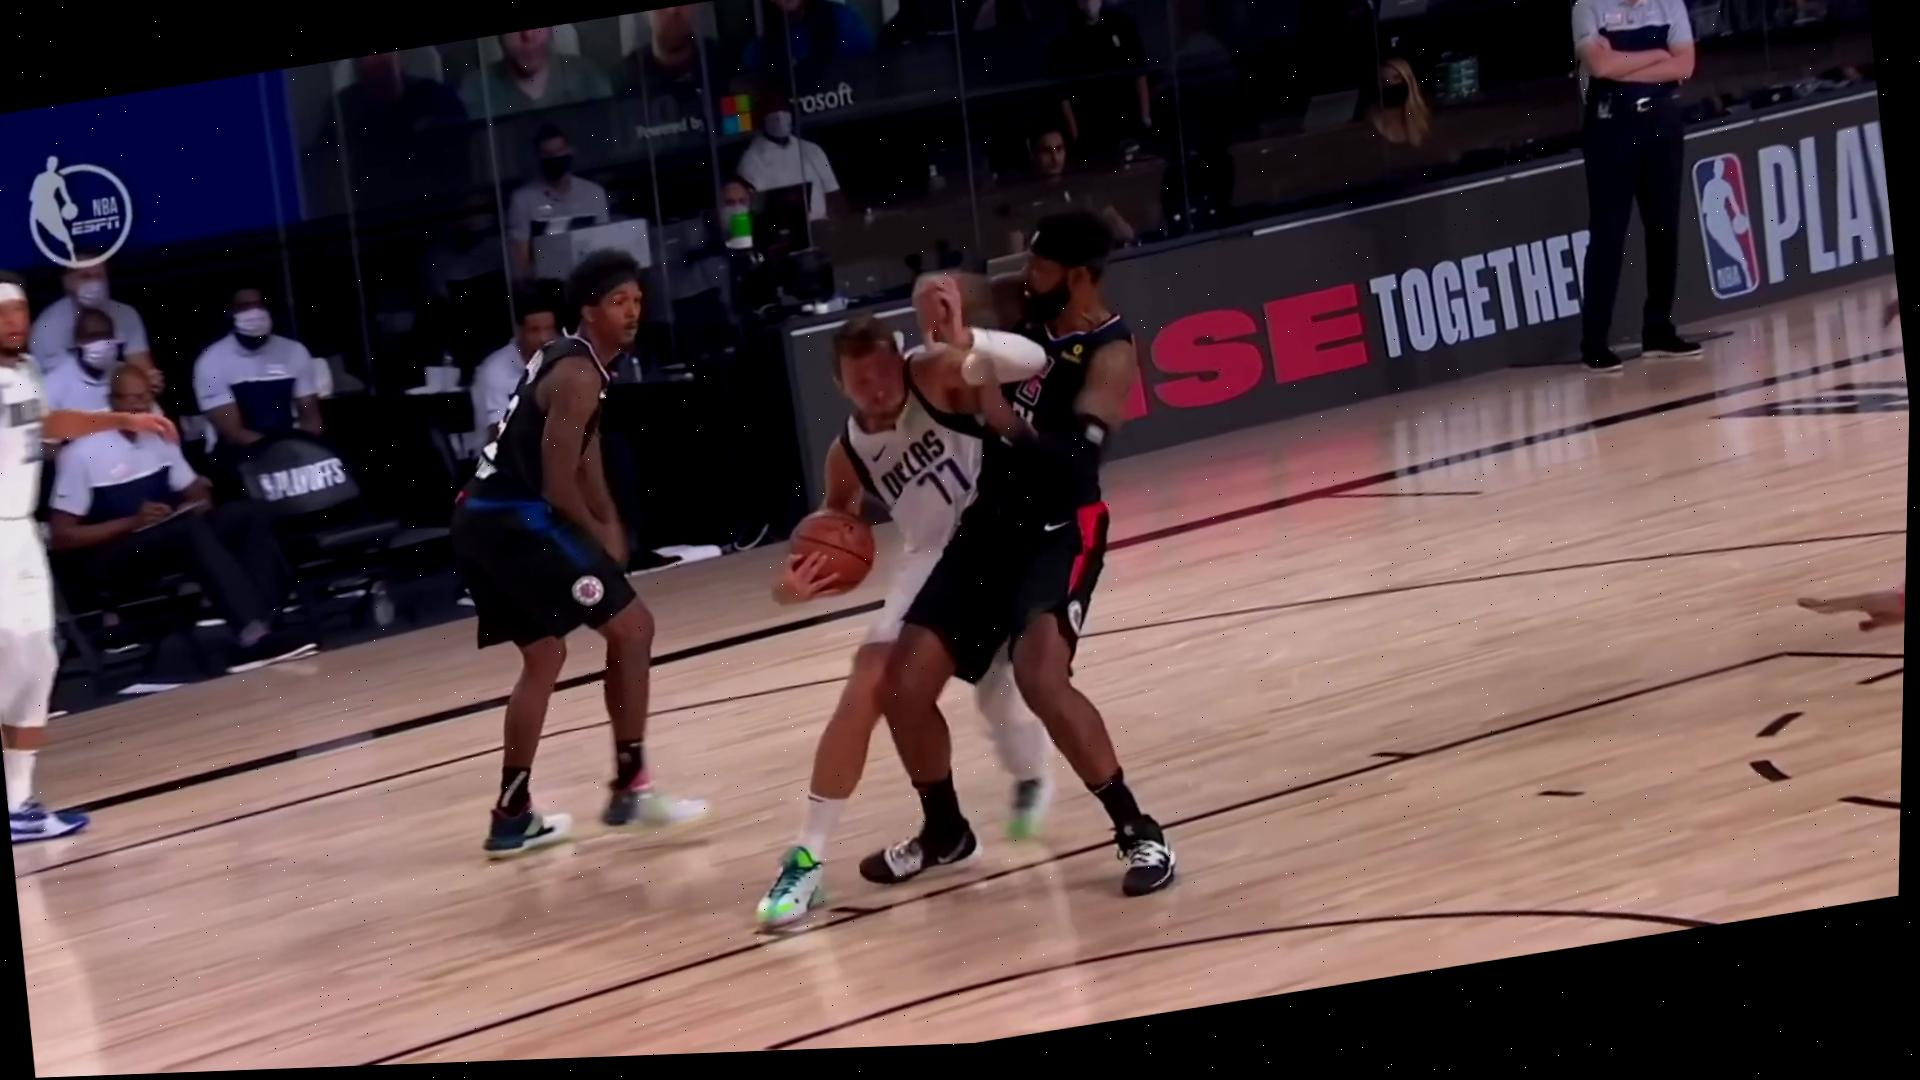foul: (696, 160, 1269, 981)
